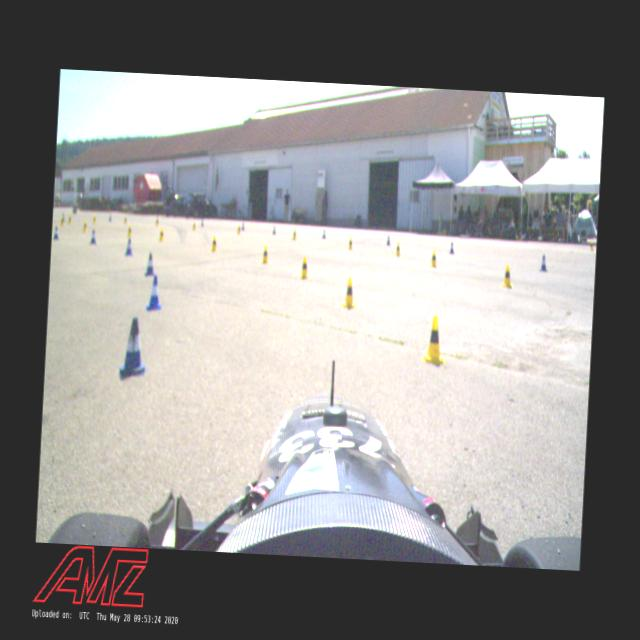blue_cone: (120, 320, 146, 374), (146, 274, 162, 310), (538, 251, 550, 271), (144, 252, 154, 276), (124, 238, 134, 257), (89, 225, 97, 244), (51, 226, 60, 240), (448, 240, 456, 254), (386, 234, 393, 246), (321, 228, 327, 240), (272, 225, 277, 235), (241, 222, 245, 232), (200, 218, 204, 228), (108, 213, 112, 222)
yellow_cone: (419, 315, 448, 368), (342, 276, 359, 310), (501, 262, 514, 288), (298, 254, 310, 280), (430, 248, 439, 267), (262, 246, 270, 264), (210, 235, 218, 252), (394, 242, 402, 256), (347, 235, 354, 251), (158, 226, 165, 242), (126, 225, 132, 238), (291, 228, 297, 240), (82, 220, 88, 232), (192, 220, 198, 230), (60, 214, 64, 226), (68, 215, 72, 224), (92, 216, 96, 223), (238, 224, 240, 234)
